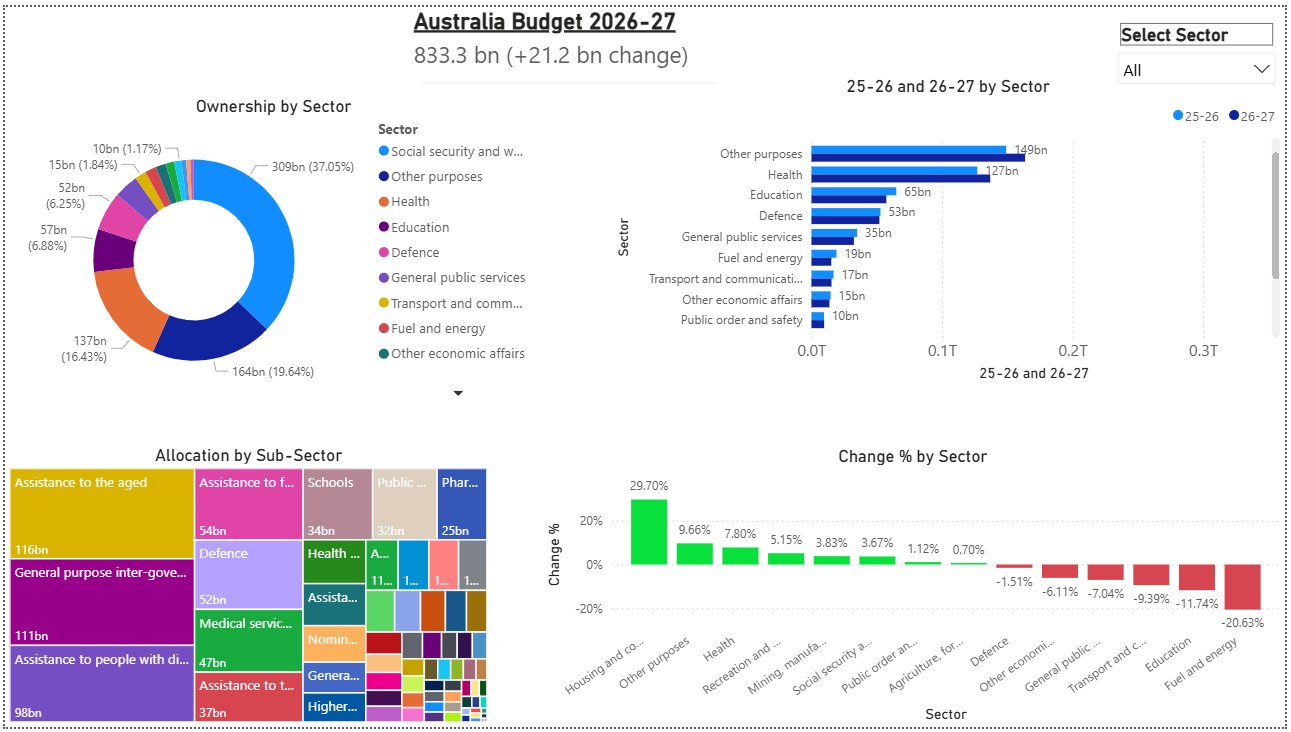

The dashboard page shown, as its layout file describes it:
{"tool":"powerbi","page":{"name":"Page 1","canvas":[1280,720],"ordinal":0},"visuals":[{"type":"clusteredBarChart","fields":{"Category":["Sector.Sector"],"Y":["Sum(Sector.2025-26 )","Sum(Sector.2026-27)"]},"box":[606.5,68.6,673.8,310.1],"z":0},{"type":"clusteredColumnChart","fields":{"Category":["Sector.Sector"],"Y":["Sum(Sector.Change %)"]},"box":[536.7,438.3,743.3,281.7],"z":1000},{"type":"treemap","fields":{"Details":["Sub_sector.Sub-Sector"],"Values":["Sum(Sub_sector.2026-27)"]},"box":[0,437.7,487.1,282.7],"z":2000},{"type":"slicer","fields":{"Values":["Sector.Sector"]},"box":[1101.9,11,178.4,68.6],"z":3000},{"type":"cardVisual","title":"Australia Budget 2026-27","fields":{"Data":["Sum(Sector.2026-27)"]},"box":[403.5,0,322.8,90.5],"z":5000},{"type":"donutChart","fields":{"Category":["Sector.Sector"],"Y":["Sum(Sector.2026-27)"]},"box":[0,88.6,537.1,310],"z":5500}]}

Visuals, with their boxes in screenshot pixels (x1, y1, x2, y2), scaled from the page's 1280x720 canvas onto the 1291x732 screenshot:
clusteredBarChart - Sector.Sector x Sum(Sector.2025-26 ): region(612, 70, 1290, 385)
clusteredColumnChart - Sector.Sector x Sum(Sector.Change %): region(541, 446, 1290, 731)
treemap - Sub_sector.Sub-Sector x Sum(Sub_sector.2026-27): region(0, 445, 491, 731)
slicer - Sector.Sector: region(1111, 11, 1290, 81)
"Australia Budget 2026-27" cardVisual: region(407, 0, 733, 92)
donutChart - Sector.Sector x Sum(Sector.2026-27): region(0, 90, 542, 405)
